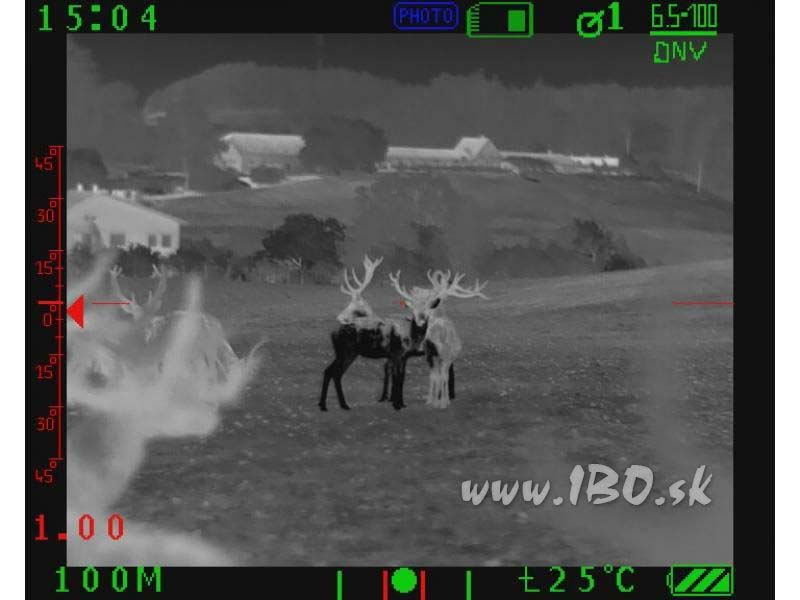cervo: (310, 267, 494, 414), (332, 241, 384, 328)
